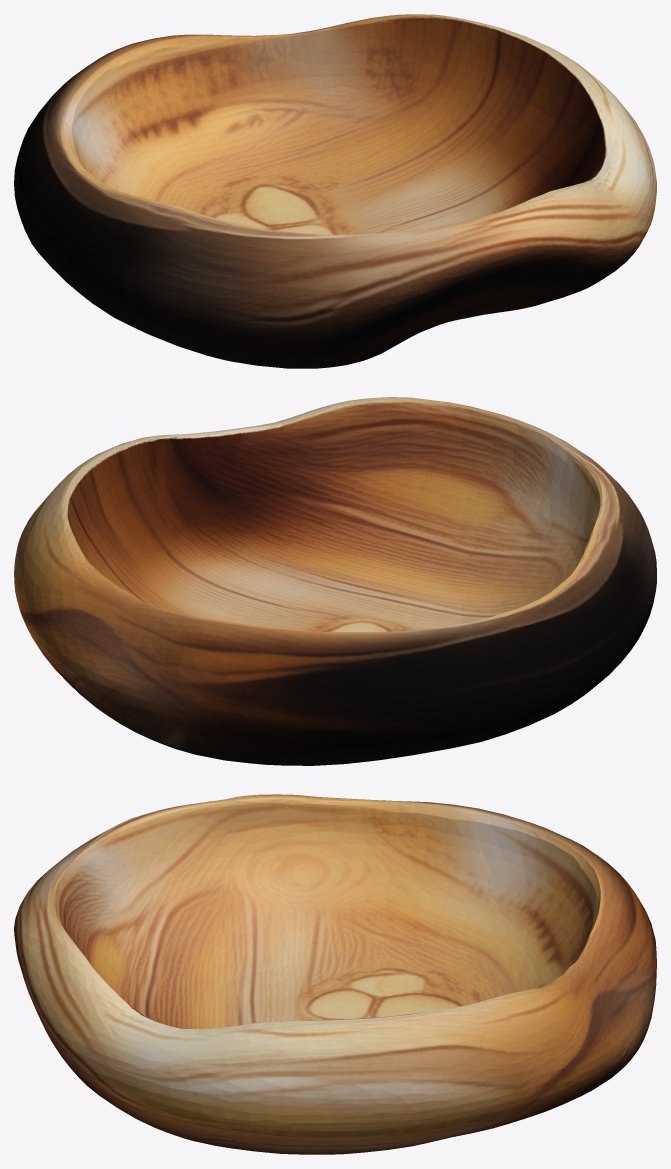
File: wooden-soap-dish-dune.jpeg.glb
3 renders of one model, top to bottom at view 1: azimuth 30°, elevation 25°; view 2: azimuth 150°, elevation 25°; view 3: azimuth 270°, elevation 25°, orthographic. The views are drawn at different scales.
Visible parts, largest first — view 1: world; view 2: world; view 3: world.
Part boxes in pixels (x1=…): world: x1=14, y1=14, x2=656, y2=368; world: x1=14, y1=397, x2=656, y2=765; world: x1=14, y1=794, x2=656, y2=1154.
Size of the model in its own units: 1 by 0.2897 by 0.9946.
1 material, 1 textured.
